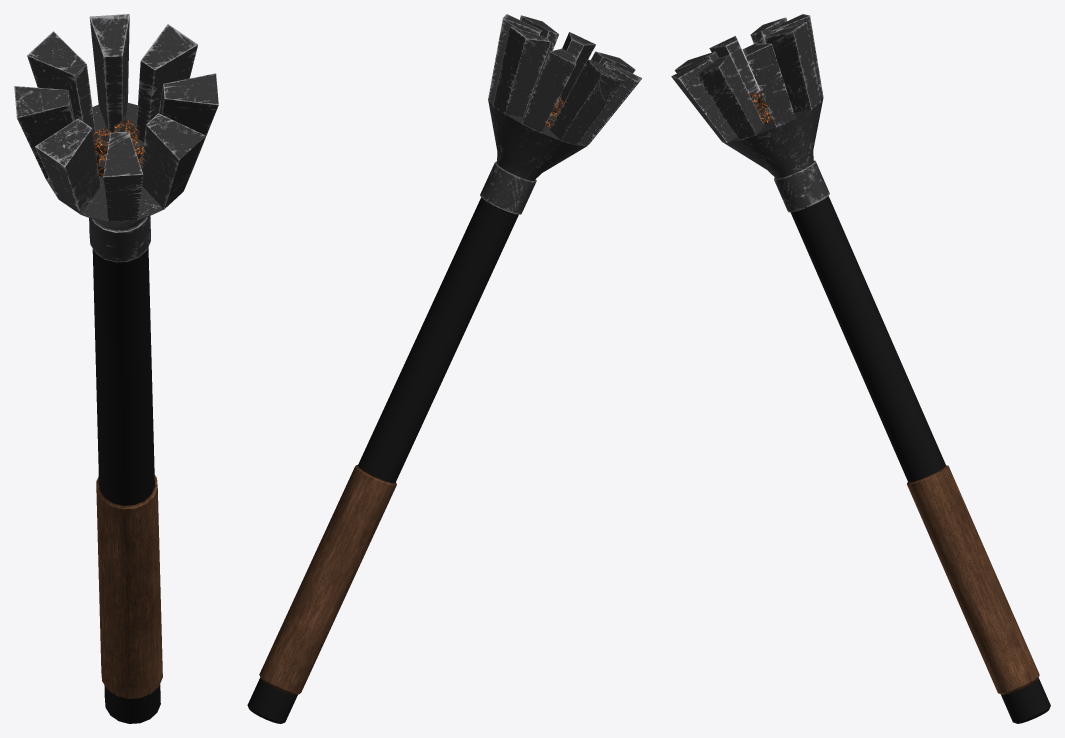
Rendered from wooden_handle_torch.glb.
3 renders of one model, left to right at view 1: azimuth 30°, elevation 25°; view 2: azimuth 150°, elevation 25°; view 3: azimuth 270°, elevation 25°, orthographic. The views are drawn at different scales.
Visible parts, largest first — view 1: Combined_9AF2E000F_BoyamaTest_Fbx_Default_Material_BaseColor; view 2: Combined_9AF2E000F_BoyamaTest_Fbx_Default_Material_BaseColor; view 3: Combined_9AF2E000F_BoyamaTest_Fbx_Default_Material_BaseColor.
Boxes of the visible parts, left/top/right/bottom form: Combined_9AF2E000F_BoyamaTest_Fbx_Default_Material_BaseColor: left=14, top=14, right=218, bottom=723; Combined_9AF2E000F_BoyamaTest_Fbx_Default_Material_BaseColor: left=247, top=14, right=642, bottom=723; Combined_9AF2E000F_BoyamaTest_Fbx_Default_Material_BaseColor: left=671, top=14, right=1050, bottom=723.
Size of the model in its own units: 0.2451 by 0.6239 by 0.3396.
Materials: 1 (1 with a texture image).
